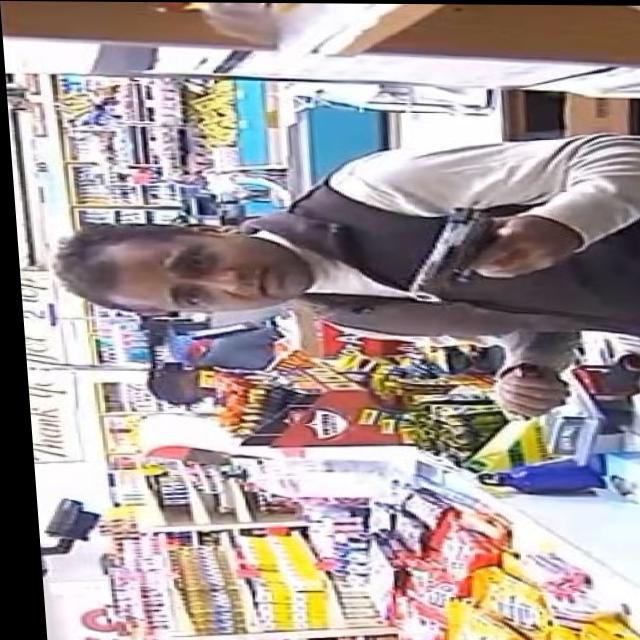handgun: (392, 198, 507, 303)
